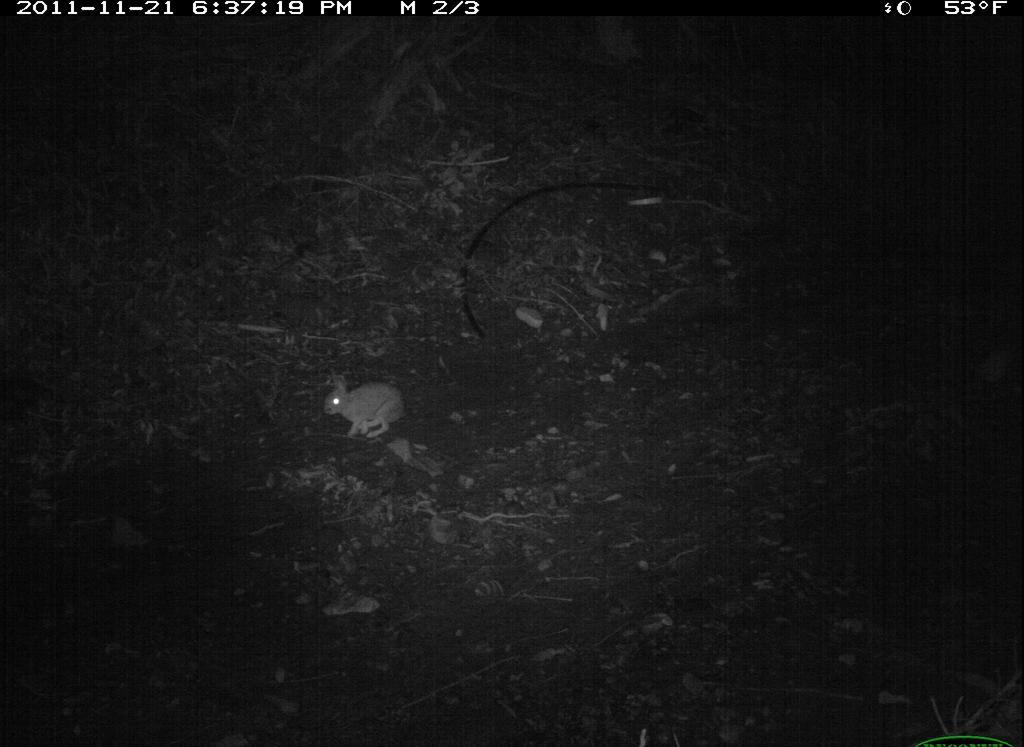rabbit: (321, 365, 406, 445)
